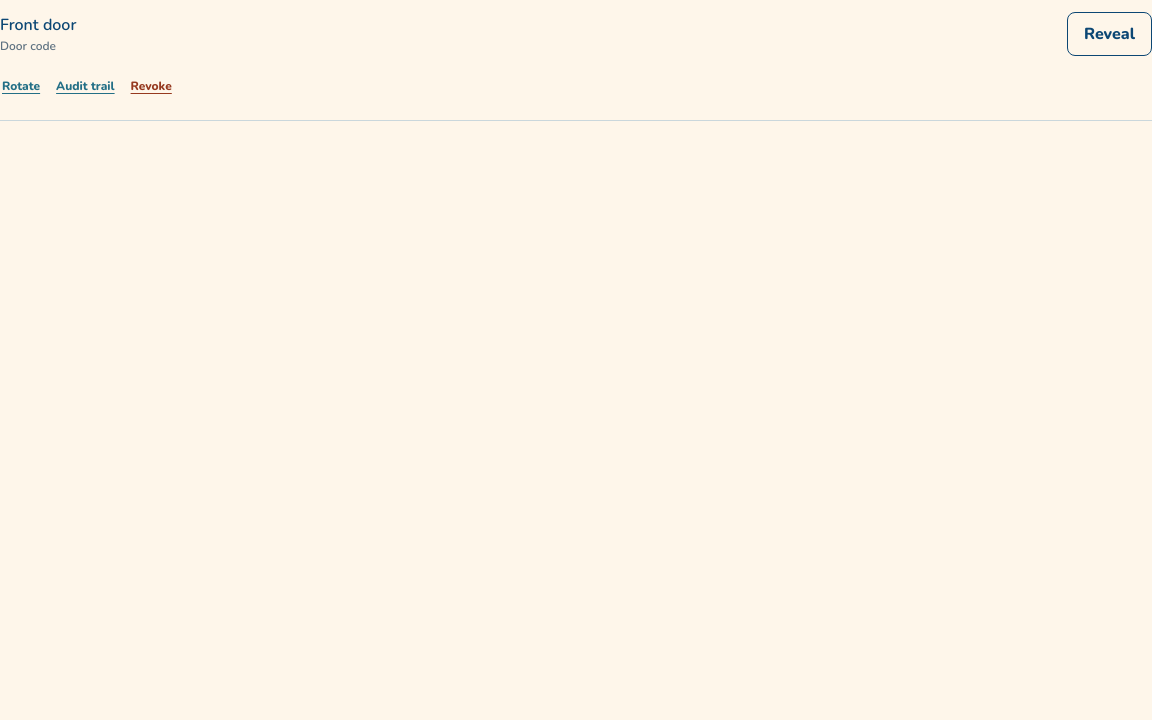
Test case: the vault reveal panel › shows the secret only after a re-auth and a stated purpose
Expected: the text "4821#" is not shown
Click the button "Reveal" at point(1110, 34), box [1067,12,1151,56]
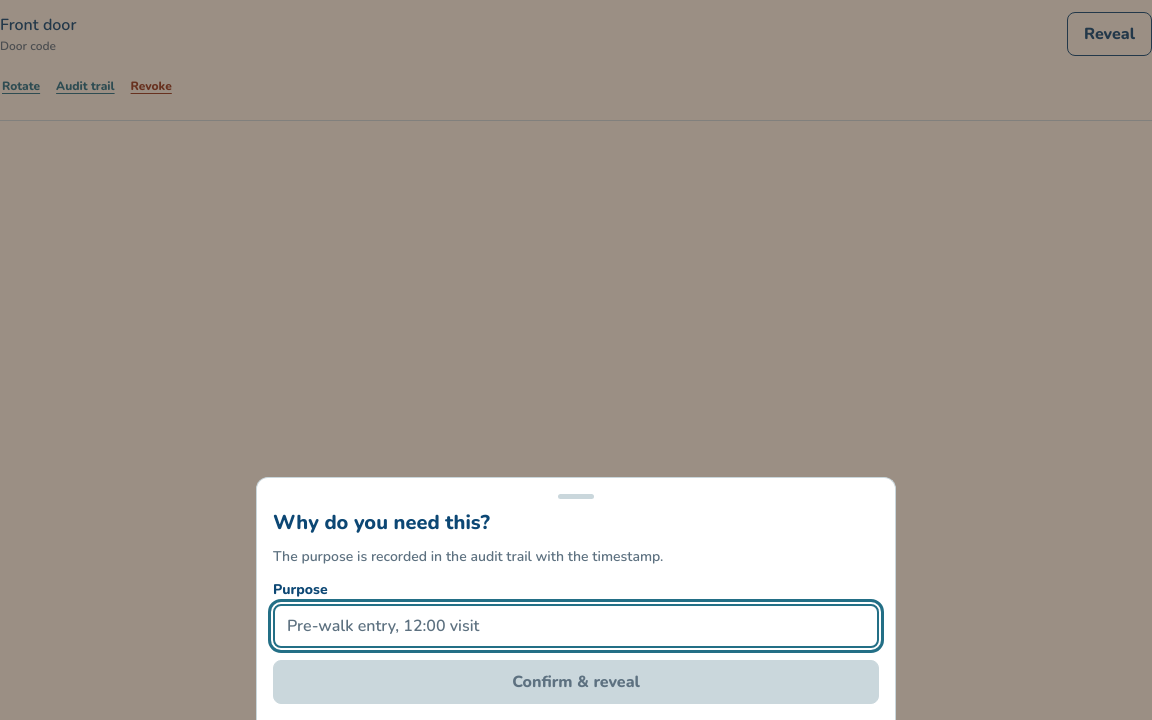
Type "Luna 2pm walk" into the field labelled "Purpose" at point(576, 626), box [273,604,879,648]
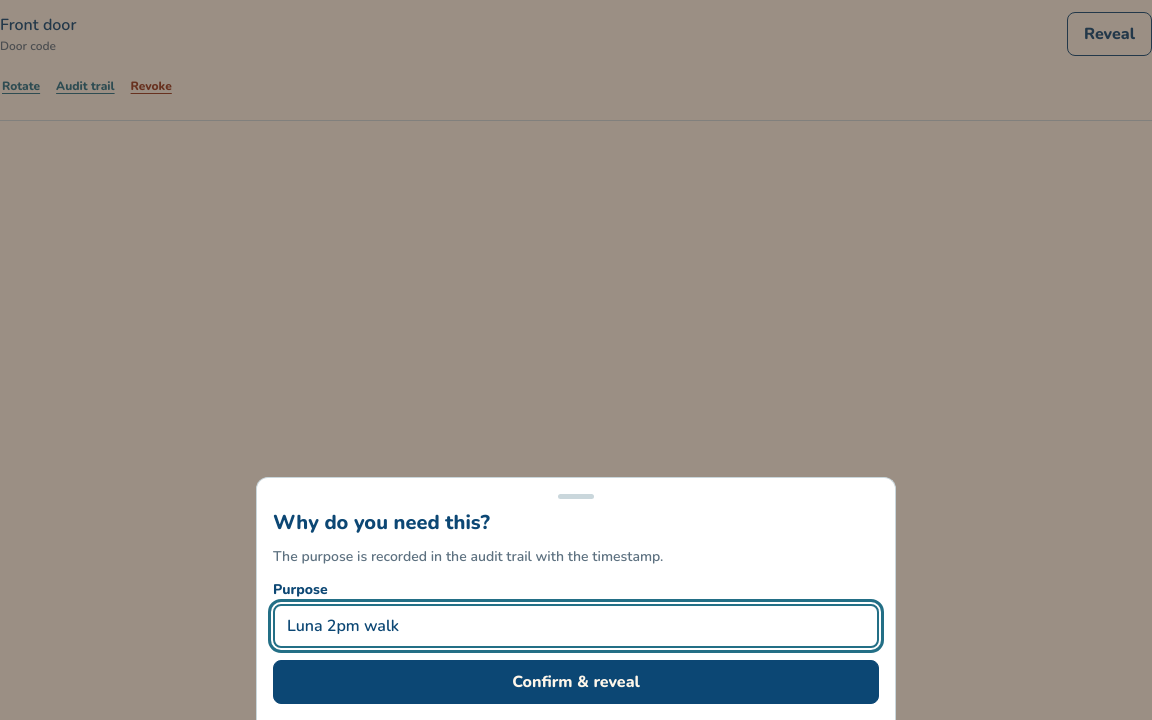
Click the button "Confirm & reveal" at point(576, 682), box [273,660,879,704]
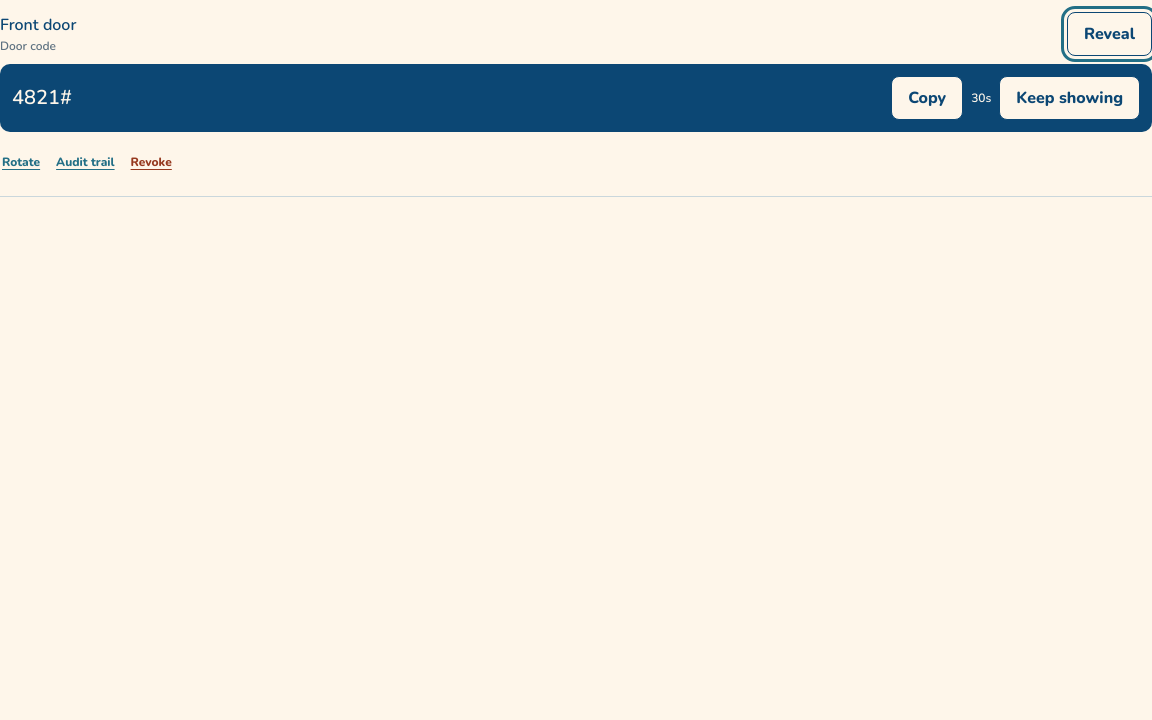
Expected: the text "4821#" is shown, [12,84,72,111]
